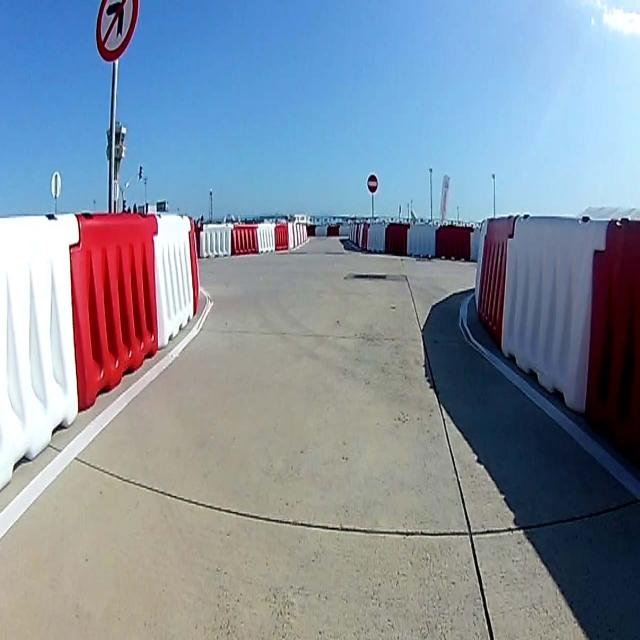girisyok: (367, 173, 378, 193)
soladonulmez: (96, 1, 140, 62)
